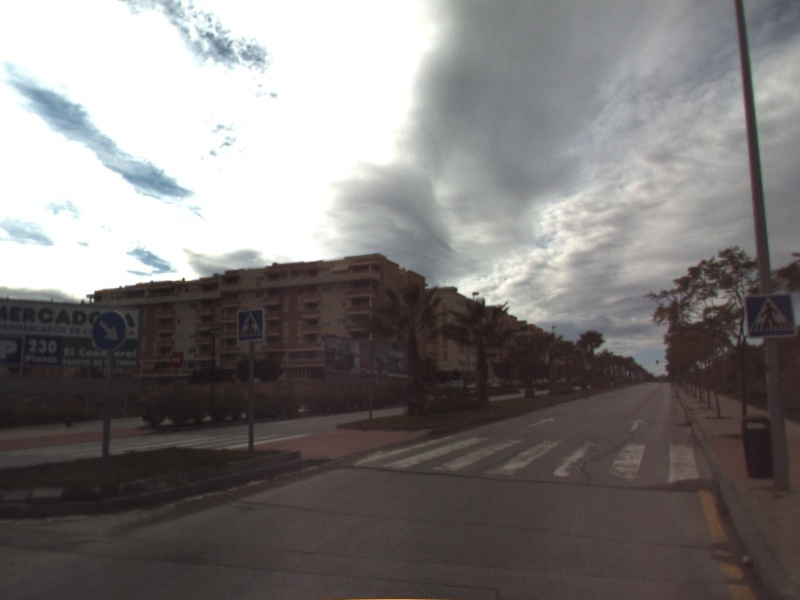STRAIGHT: (526, 415, 556, 429), (626, 417, 650, 433)
